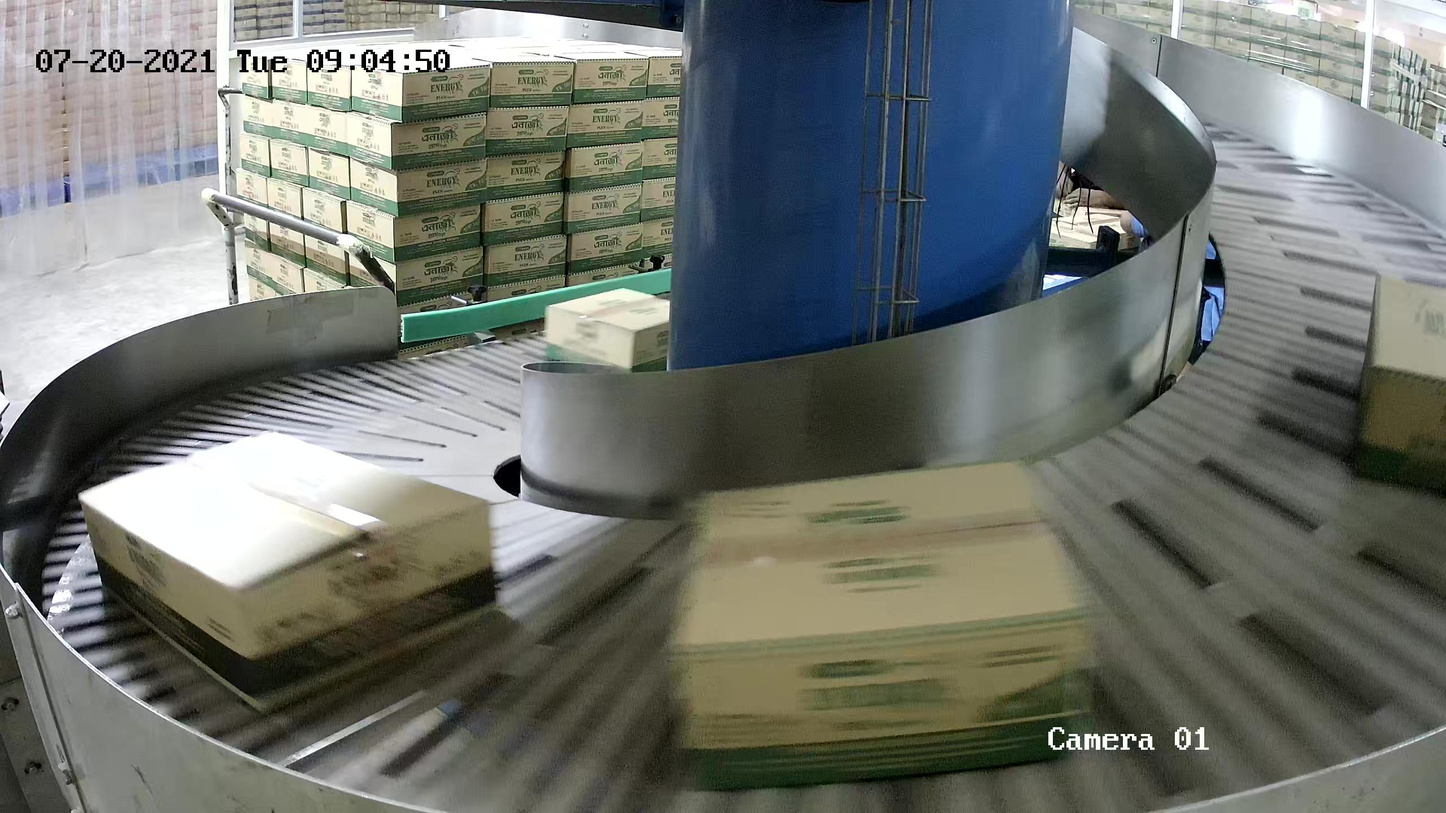Box: (666, 456, 1112, 798), (76, 428, 507, 715), (1339, 268, 1446, 497), (543, 285, 708, 392)
